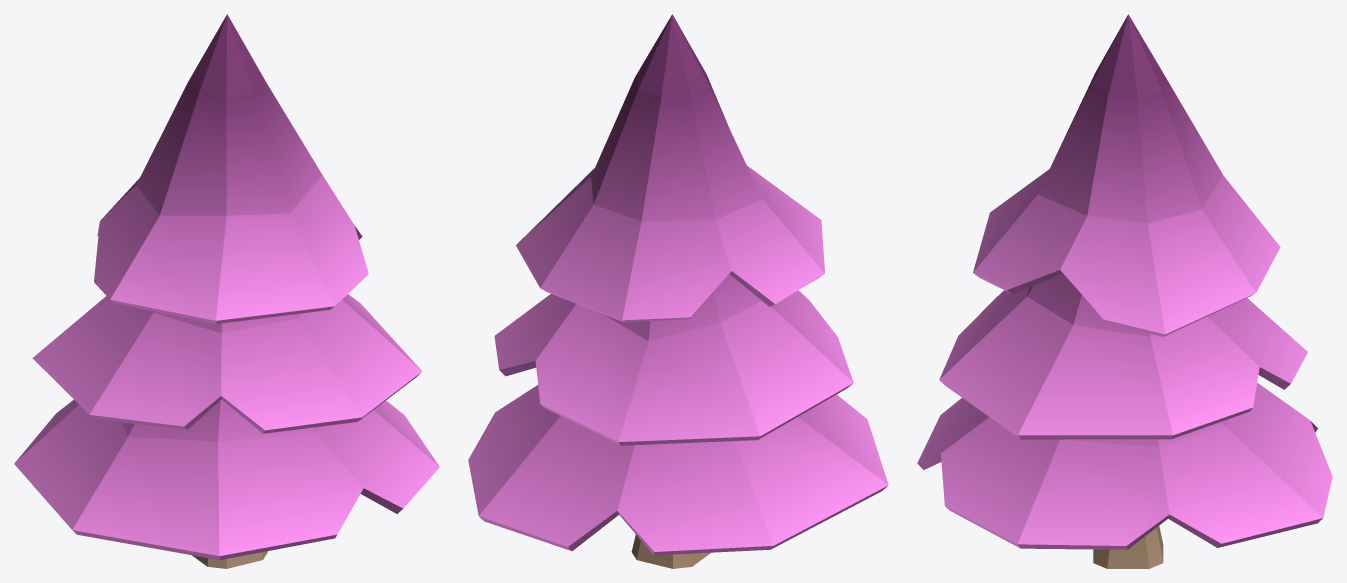
Rendered from SpringPine1.fbx.
The picture shows the model from 3 angles, left to right: view 1: azimuth 30°, elevation 25°; view 2: azimuth 150°, elevation 25°; view 3: azimuth 270°, elevation 25°; orthographic projection.
Visible parts, largest first — view 1: SpringPine1; view 2: SpringPine1; view 3: SpringPine1.
Boxes of the visible parts, box(x1,y1,x2,y2) form: SpringPine1: box(14, 14, 439, 568); SpringPine1: box(468, 14, 888, 568); SpringPine1: box(917, 14, 1332, 568).
Size of the model in its own units: 432 by 613 by 428.
